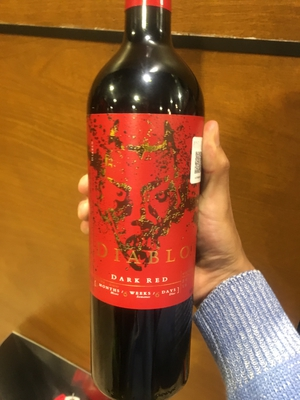diablo dark red: (86, 16, 220, 400)
